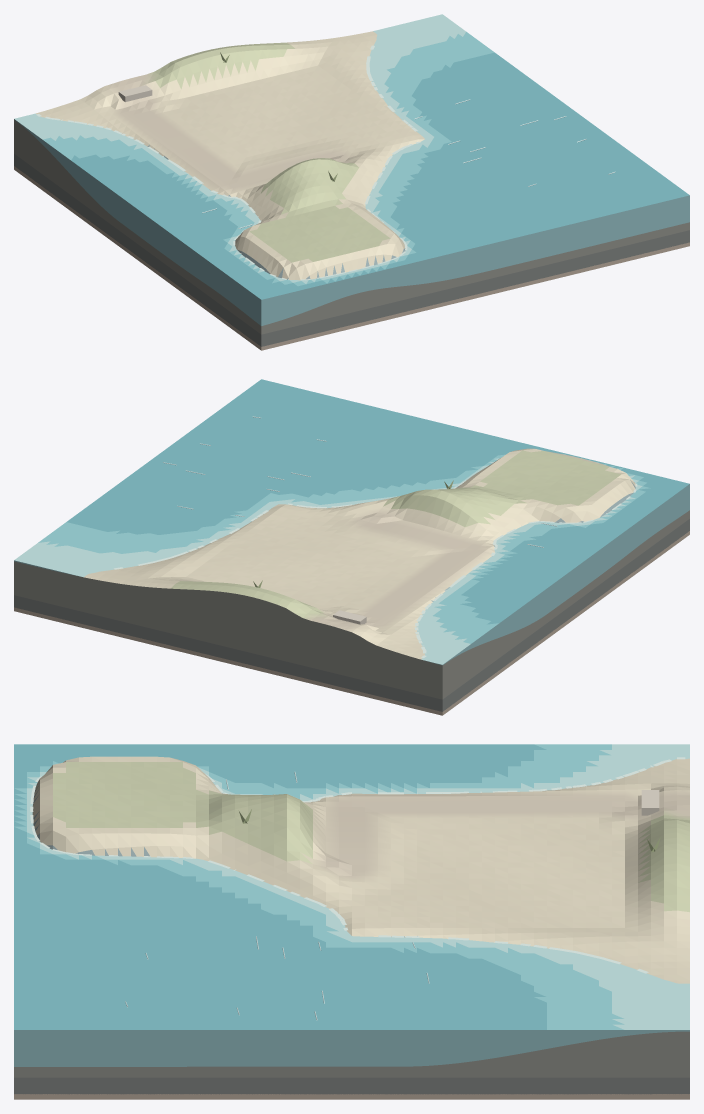
3 views of the same model, one above another, from view 1: azimuth 30°, elevation 25°; view 2: azimuth 150°, elevation 25°; view 3: azimuth 270°, elevation 25° (orthographic). The views are drawn at different scales.
Visible parts, largest first — view 1: proc_water, proc_ground, proc_skirt, proc_water_side, proc_foam; view 2: proc_water, proc_ground, proc_skirt, proc_water_side, proc_foam; view 3: proc_water, proc_ground, proc_skirt, proc_water_side, proc_foam.
Part boxes in pixels (x1,y1,x2,y2): proc_water: [14, 14, 689, 299]; proc_ground: [36, 31, 424, 280]; proc_skirt: [14, 119, 689, 350]; proc_water_side: [14, 119, 689, 325]; proc_foam: [36, 45, 420, 280]; proc_water: [14, 379, 689, 664]; proc_ground: [84, 448, 635, 659]; proc_skirt: [14, 510, 689, 715]; proc_water_side: [14, 484, 689, 665]; proc_foam: [114, 480, 637, 657]; proc_water: [14, 744, 689, 1029]; proc_ground: [32, 756, 689, 983]; proc_skirt: [14, 1031, 689, 1099]; proc_water_side: [14, 1030, 689, 1066]; proc_foam: [30, 757, 685, 973].
Size of the model in its own units: 8 by 1.44 by 8.
